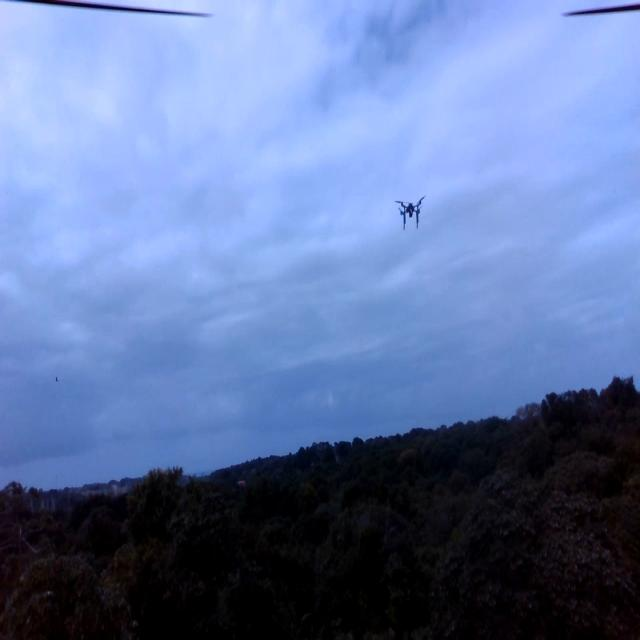-uav-: (390, 184, 432, 237)
